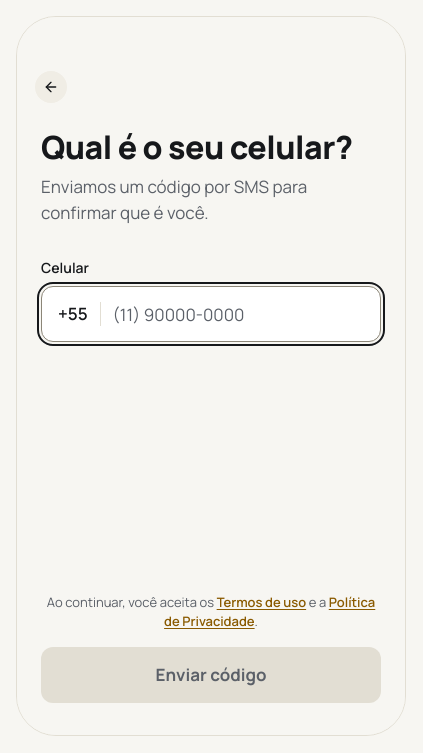
Test case: SignInPhonePage (screen 03) › sends the code and goes to the code screen with the number
Step 1. Type "11900000000" into the field labelled "Celular" → (238, 314), box [113, 287, 364, 341]
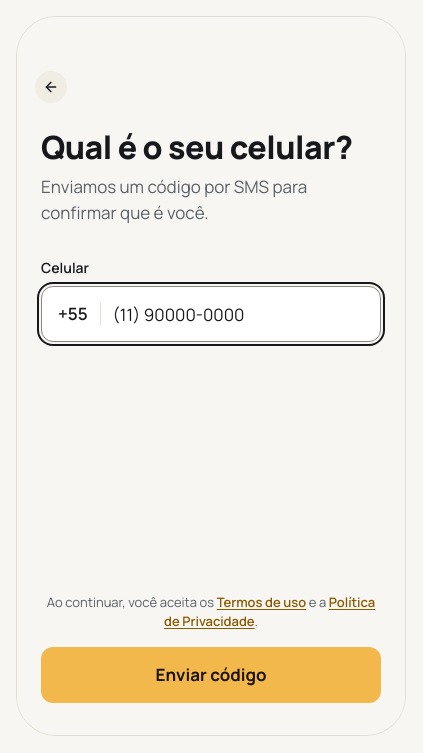
Step 2. Click the button "Enviar código" → (211, 675), box [41, 647, 381, 703]
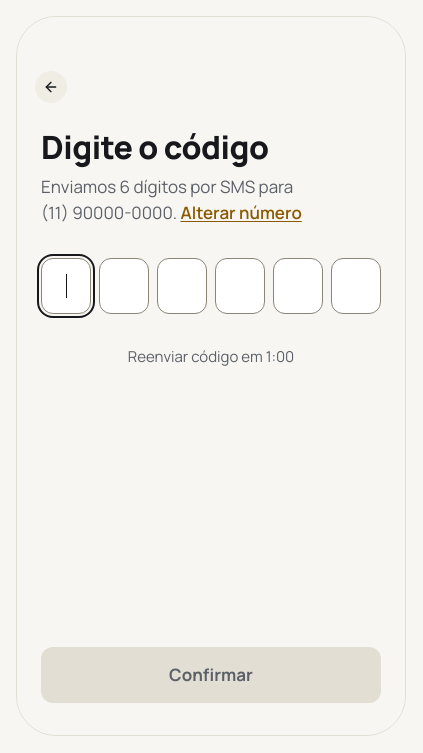
Check: the heading "Digite o código" is shown, box [41, 125, 268, 169]
